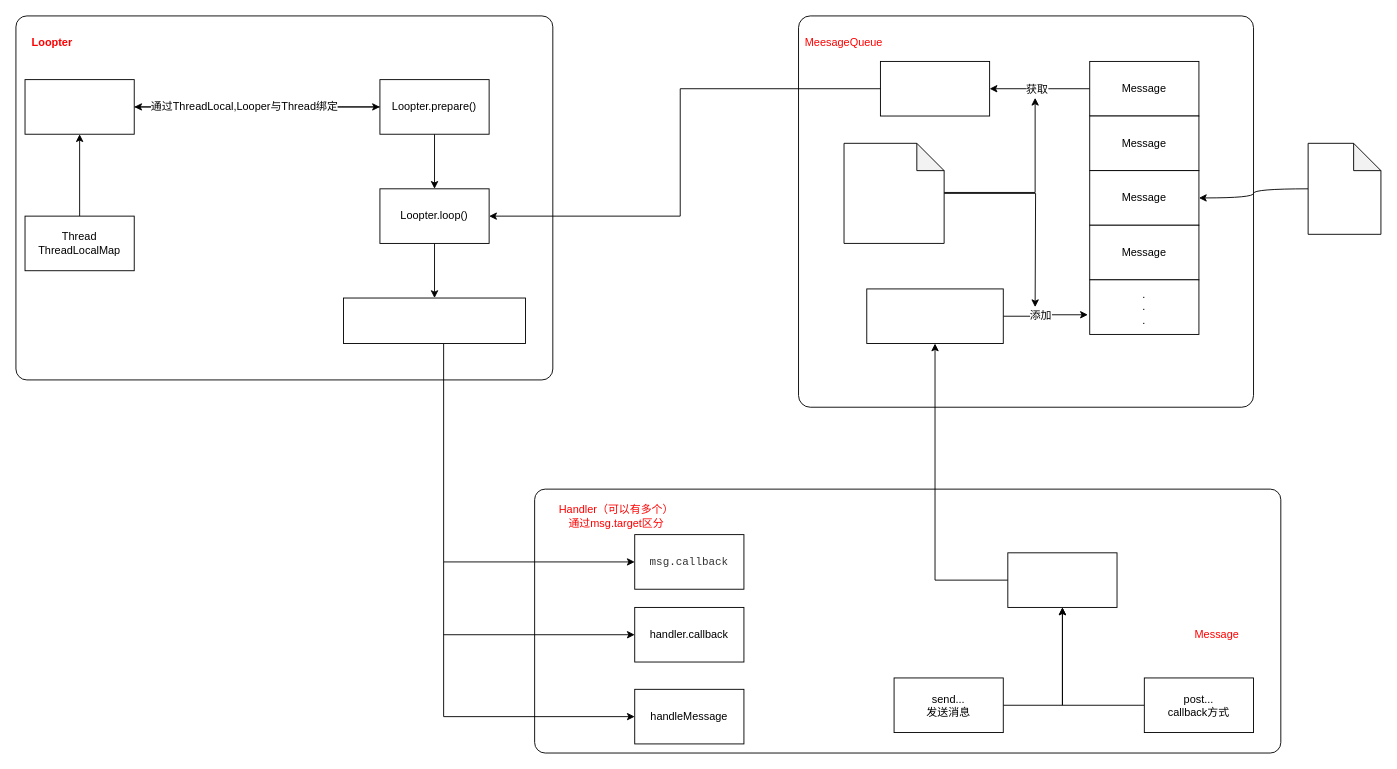
This 1397x769 diagram has some shape labels left out. Each missing label, with the box of its shape:
equeueMessage(): (1007, 552, 1117, 607)
Message按时间权重排列: (1307, 142, 1381, 234)
msg.target.dispatchMessage(): (343, 297, 526, 344)
queue.equeueMessage(): (866, 288, 1003, 344)
queue.next(): (880, 61, 990, 116)
ThreadLocal: (24, 79, 134, 134)
从子线程添加，从主线程获取，此处（Looper中调用queue。next()）实现了线程切换: (843, 142, 944, 243)
